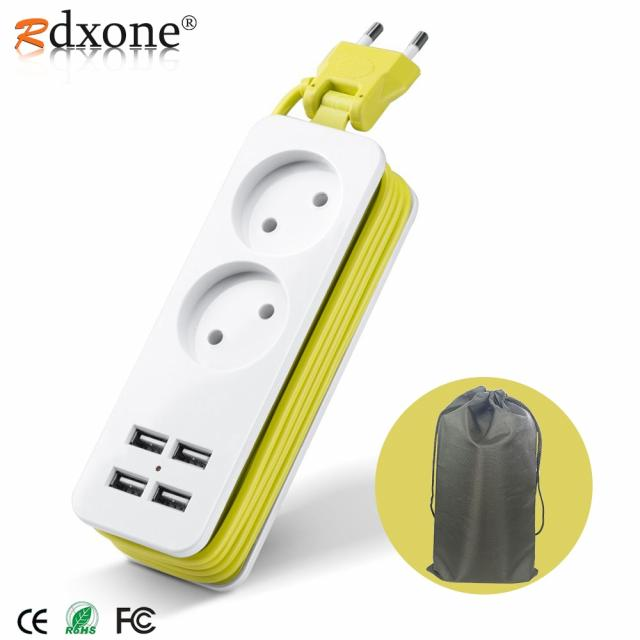typeb: (69, 92, 408, 596)
